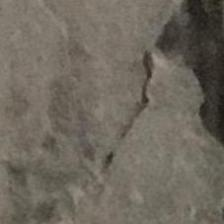Crack: (0, 0, 224, 216)
